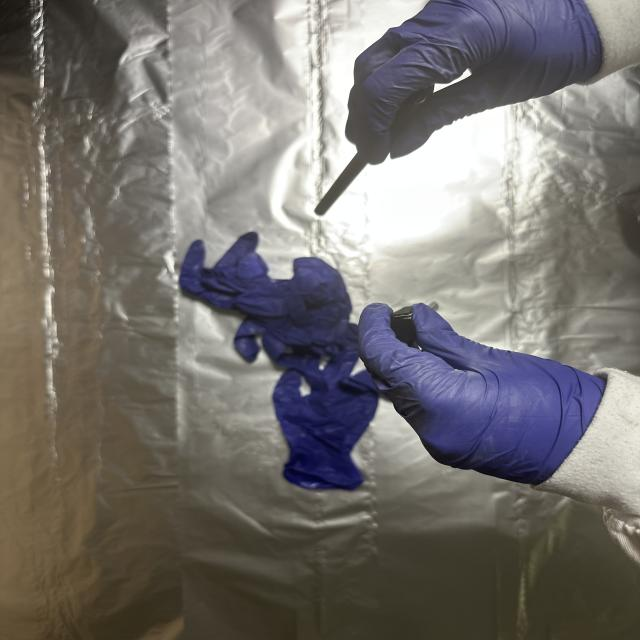gloves_contaminated: (359, 304, 604, 483), (346, 0, 602, 164)
